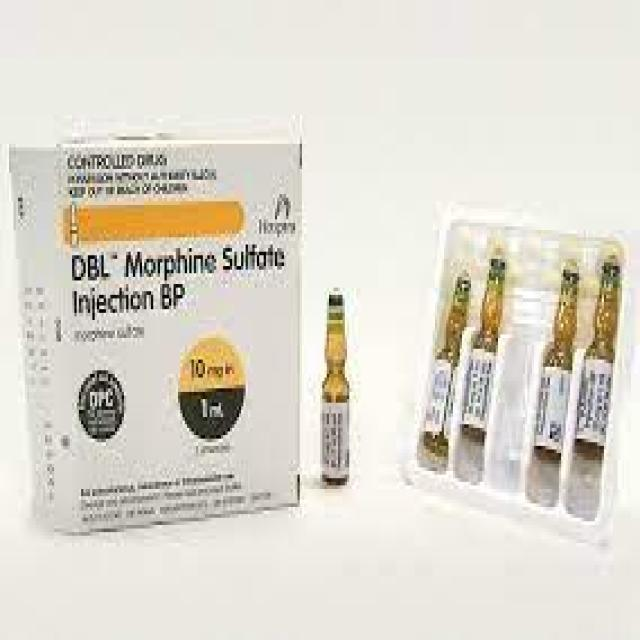B3: (523, 208, 588, 522), (410, 205, 473, 482), (307, 270, 365, 492), (464, 212, 512, 457)
